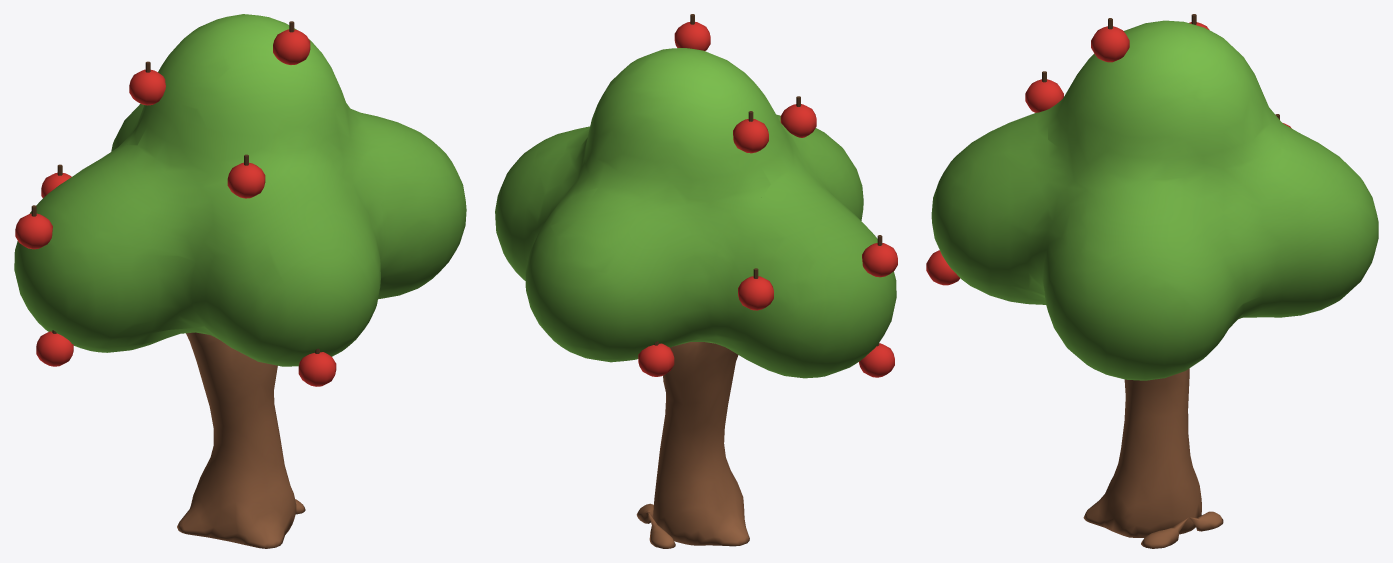
File: apple_tree.glb
3 views of the same model, side by side, from view 1: azimuth 30°, elevation 25°; view 2: azimuth 150°, elevation 25°; view 3: azimuth 270°, elevation 25° (orthographic). The views are drawn at different scales.
Parts seen in each view (by area): view 1: canopy, trunk; view 2: canopy, trunk; view 3: canopy, trunk.
Part boxes in pixels (left/top/right/bottom): canopy: left=14, top=14, right=466, bottom=386; trunk: left=177, top=332, right=305, bottom=548; canopy: left=495, top=14, right=897, bottom=378; trunk: left=636, top=342, right=749, bottom=548; canopy: left=926, top=14, right=1378, bottom=380; trunk: left=1083, top=368, right=1223, bottom=548.
Size of the model in its own units: 4.92 by 5.7 by 4.55.
3 materials, 3 textured.
